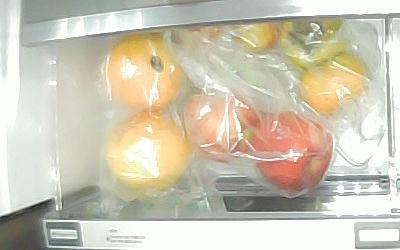apple_vinyl: (251, 110, 333, 190), (184, 90, 259, 163)
grapefruit_vinyl: (104, 111, 192, 192), (107, 32, 183, 111)
persimmon_vinyl: (299, 51, 371, 115), (278, 18, 345, 68)
prune_vinyl: (234, 22, 277, 54)
